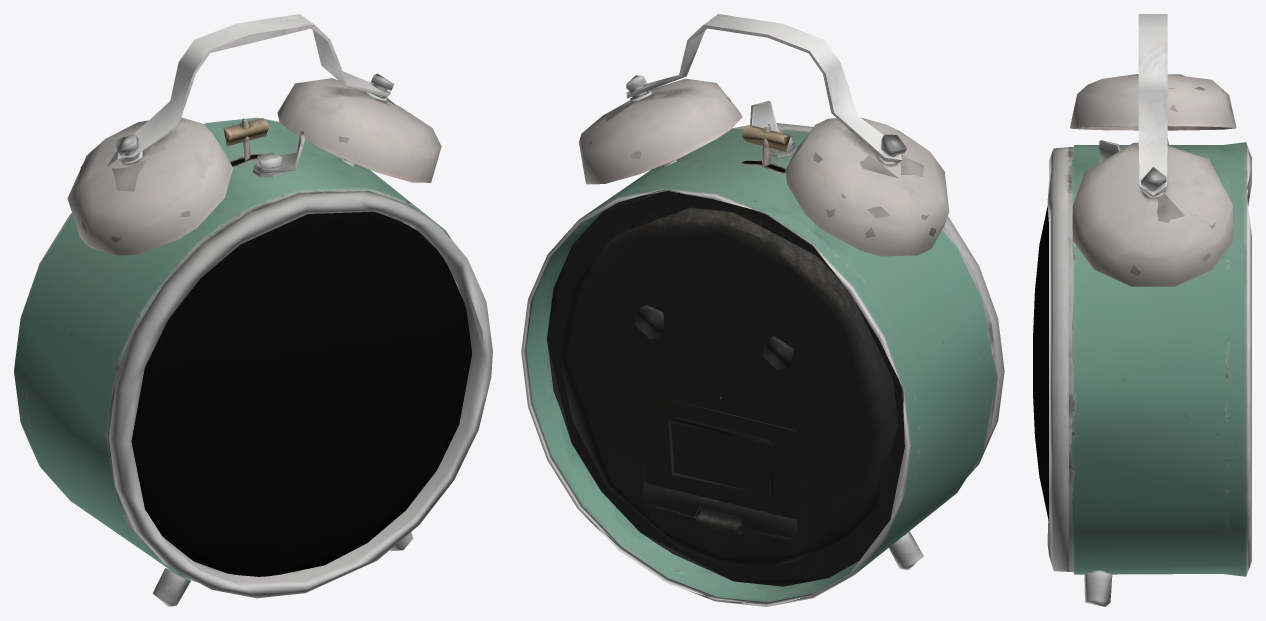
Rendered from alarm_clock_01.glb.
3 views of the same model, side by side, from view 1: azimuth 30°, elevation 25°; view 2: azimuth 150°, elevation 25°; view 3: azimuth 270°, elevation 25° (orthographic). The views are drawn at different scales.
Visible parts, largest first — view 1: alarm_clock_01; view 2: alarm_clock_01; view 3: alarm_clock_01.
Part boxes in pixels (<box>): alarm_clock_01: <box>14,14,492,606</box>; alarm_clock_01: <box>521,14,1004,606</box>; alarm_clock_01: <box>1033,14,1251,606</box>.
Size of the model in its own units: 0.1312 by 0.1738 by 0.0659.
Materials: 2 (2 with a texture image).
